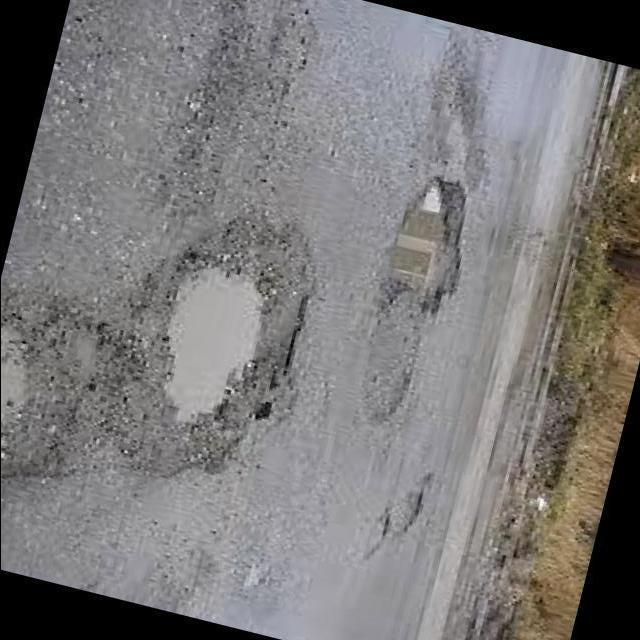pothole: (6, 208, 308, 474), (365, 180, 465, 424), (431, 31, 488, 190), (362, 472, 432, 559)
